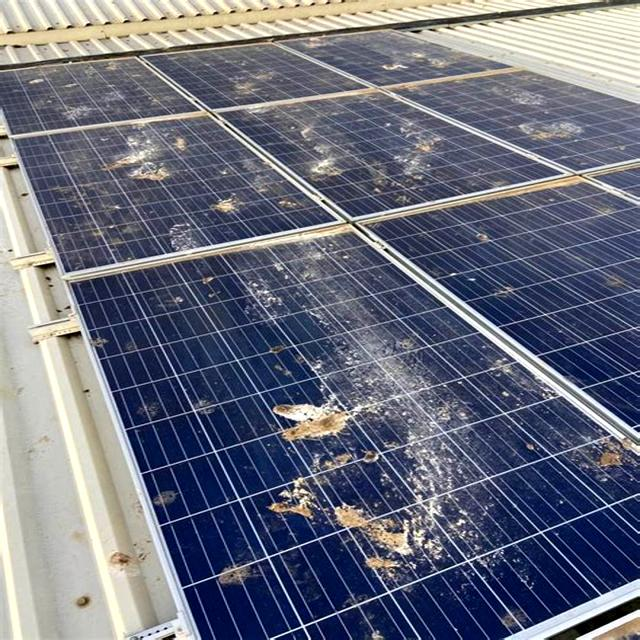bird: (276, 471, 444, 573), (234, 245, 372, 334), (265, 384, 373, 447), (103, 117, 193, 185), (289, 108, 356, 195), (547, 425, 640, 473), (397, 117, 454, 185), (127, 384, 177, 436), (206, 558, 274, 596), (192, 384, 242, 434), (525, 122, 591, 156), (201, 184, 261, 221), (156, 489, 192, 509)
